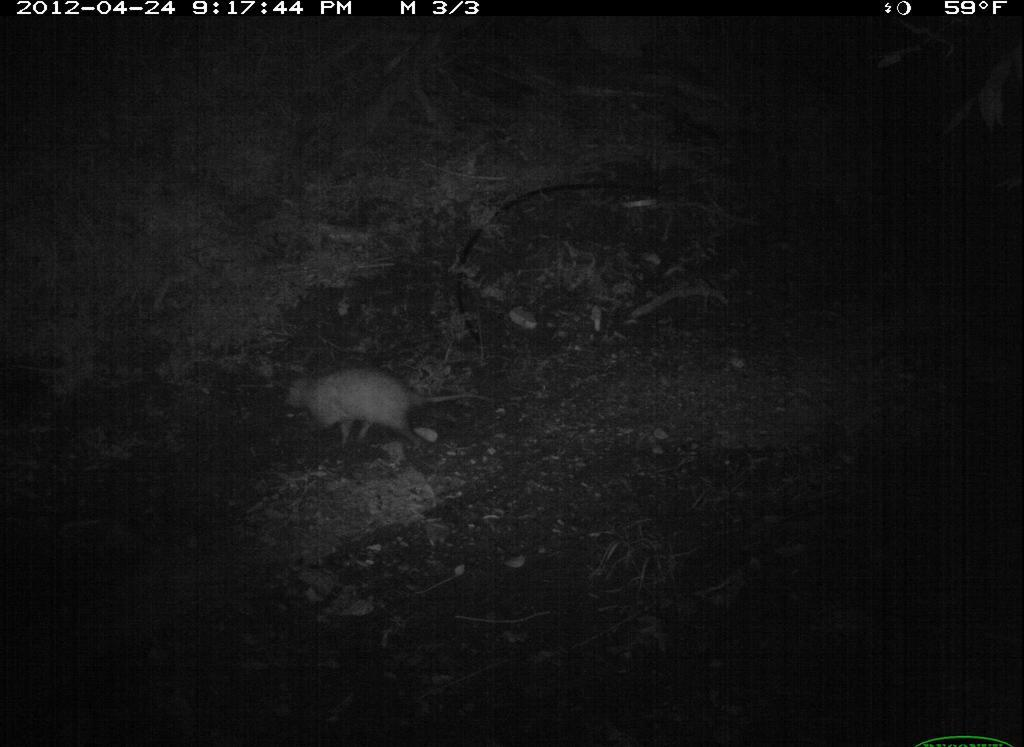opossum: (246, 345, 547, 477)
